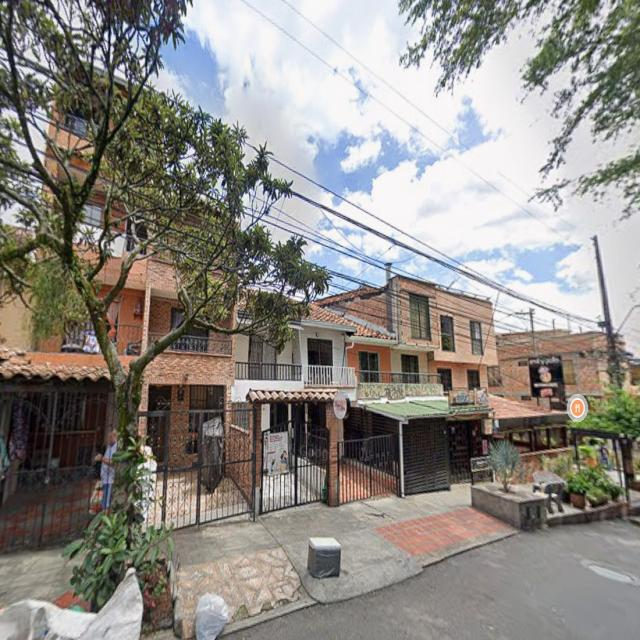Casa: (0, 70, 252, 544), (312, 273, 496, 494), (223, 303, 396, 513), (489, 329, 634, 416)
